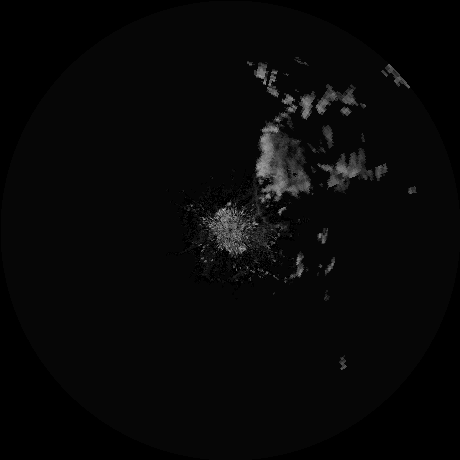frontgust: (255, 189, 285, 229)
